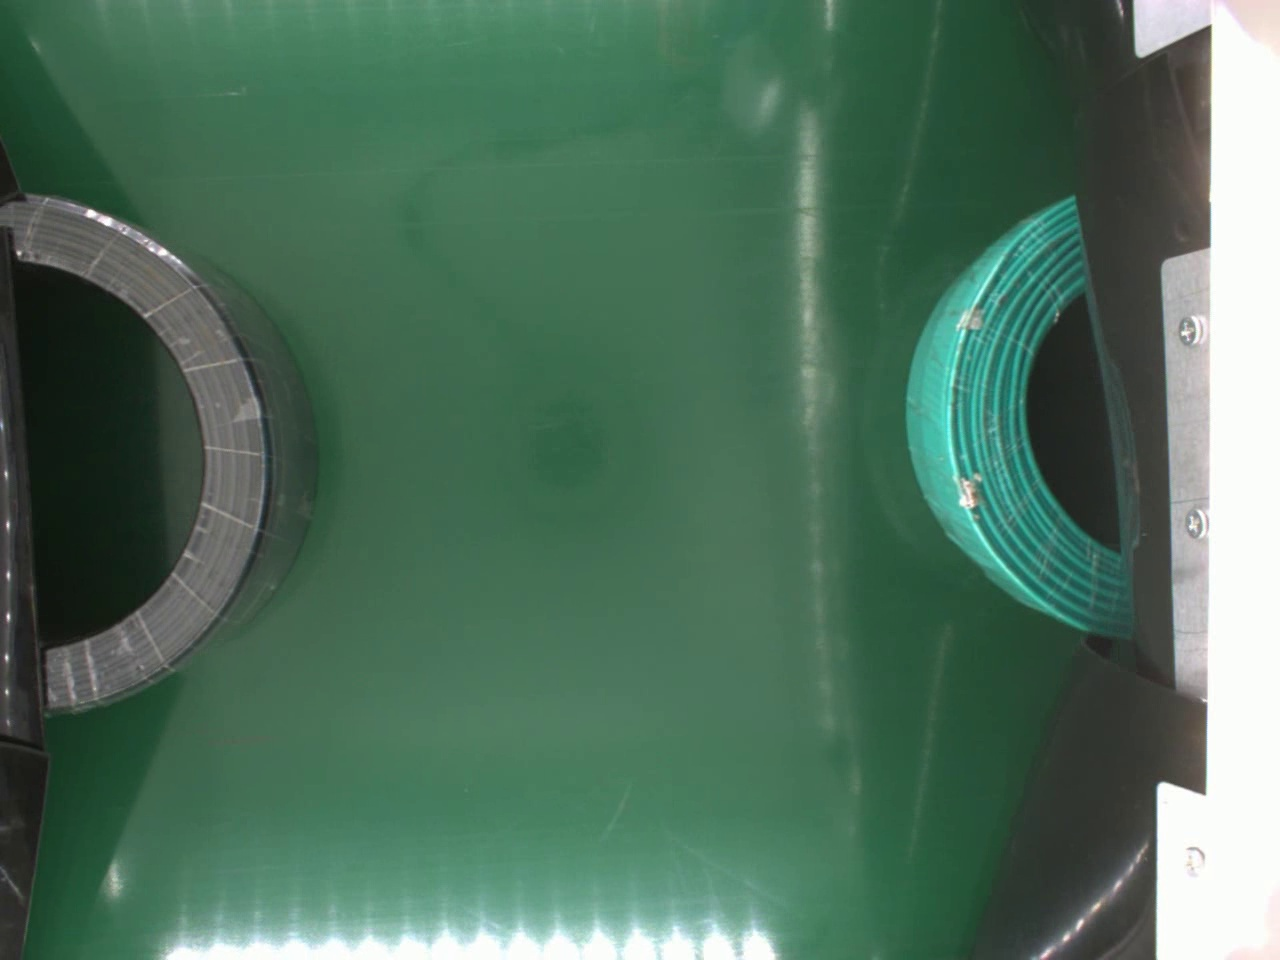black: (10, 192, 318, 733)
green: (904, 192, 1140, 640)
